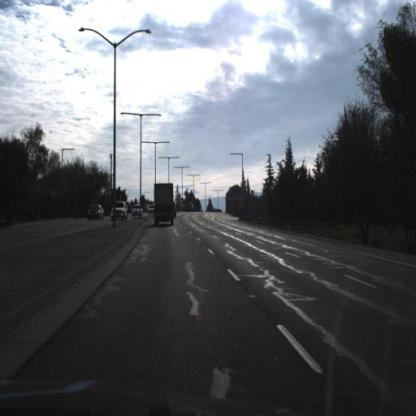car: (110, 199, 131, 222), (86, 203, 105, 225), (131, 199, 146, 222), (110, 201, 128, 220), (87, 204, 105, 222), (132, 205, 143, 219), (187, 201, 195, 214), (174, 201, 178, 221)
truck: (154, 183, 176, 228)
